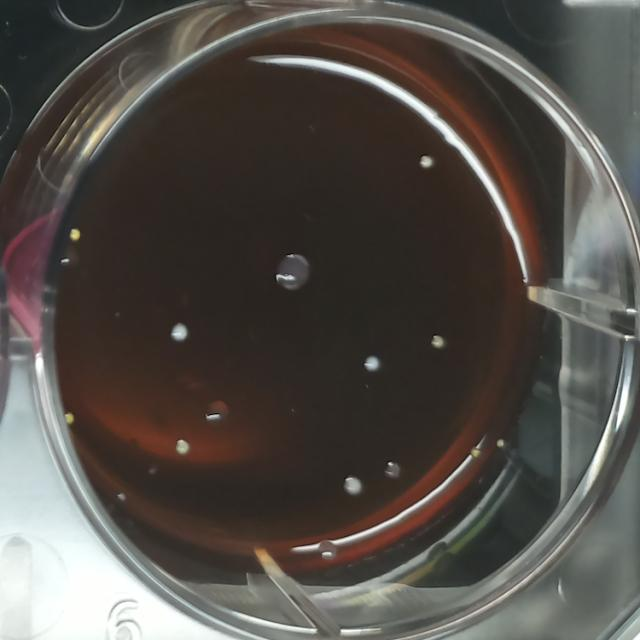Staphylococcus: (358, 352, 384, 378), (168, 319, 192, 346), (340, 473, 364, 498), (172, 436, 194, 460), (416, 151, 437, 174), (429, 331, 448, 354), (469, 445, 482, 460), (493, 436, 506, 451)
Vibrio: (201, 397, 232, 429), (56, 244, 82, 272)
